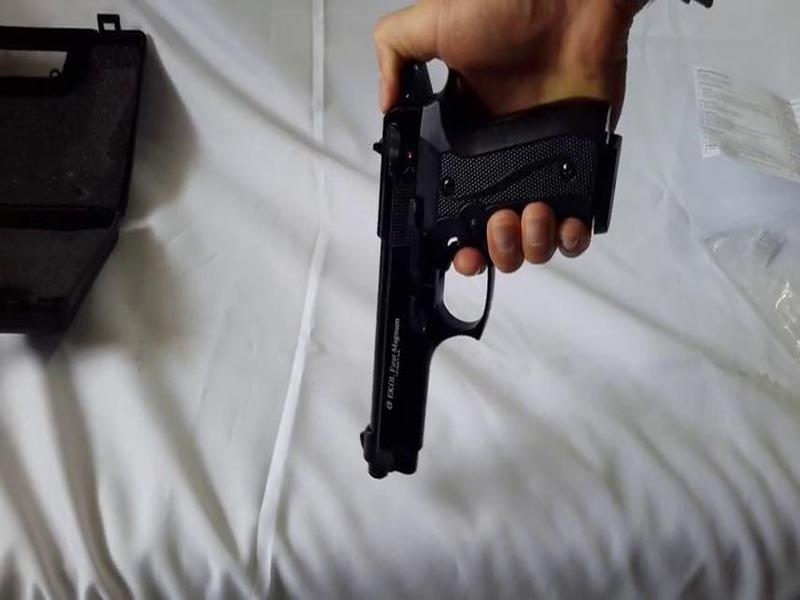Pistola: (325, 55, 637, 485)
